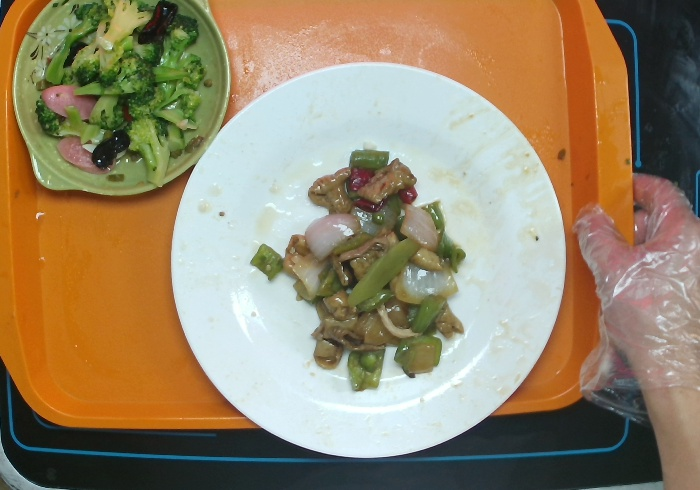NLDX-Da_Yuan_Pan: (166, 56, 571, 463)
NLDX-Lv_Hua_Shuang_Er_Die: (8, 1, 235, 203)
